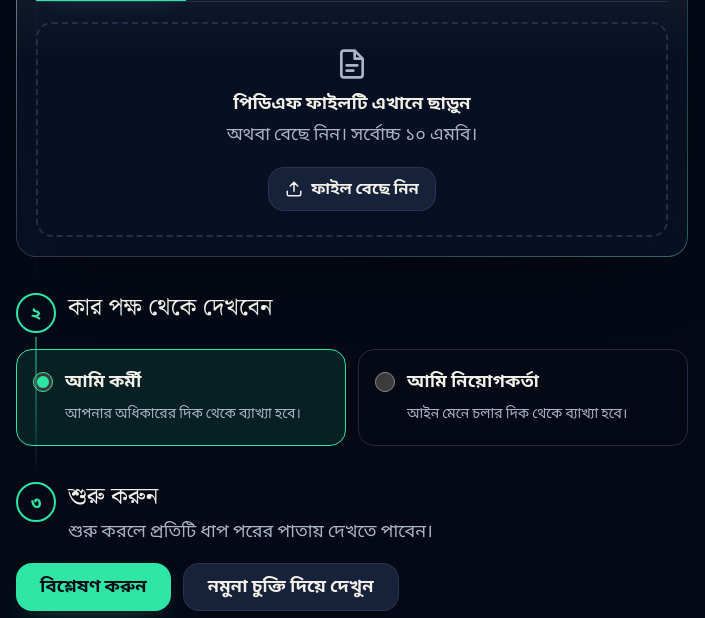
Test: UploadPage › FR-69 shows the server problem in plain words when starting fails
The width and height of the screenshot is (705, 618).
(page scrolled)
Click the button "নমুনা চুক্তি দিয়ে দেখুন". click: (291, 587)
box: [183,563,399,611]
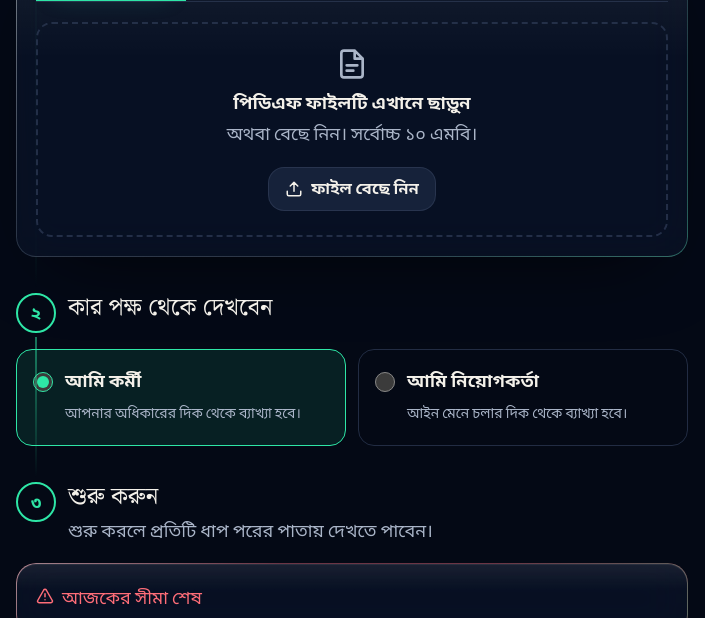
Expected: the message reads "আজকের সীমা শেষ", [62,584,202,613]
